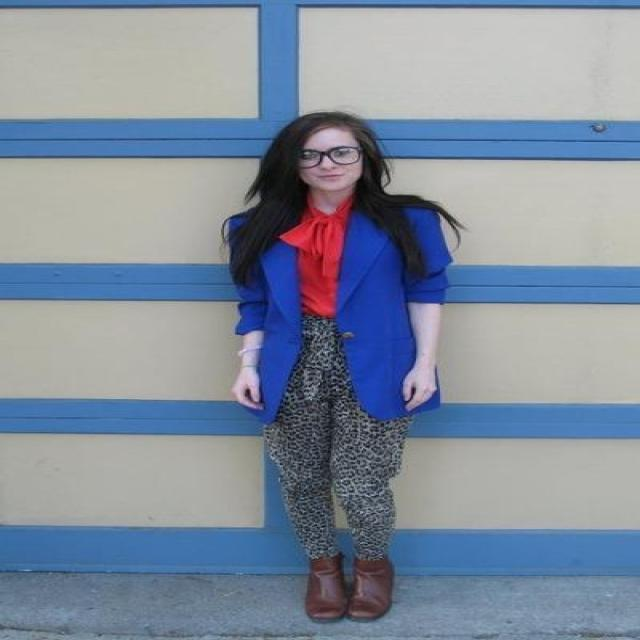jacket: (220, 207, 458, 421)
pants: (266, 309, 412, 559)
shirt: (280, 198, 349, 316)
shoe: (304, 547, 395, 623)
